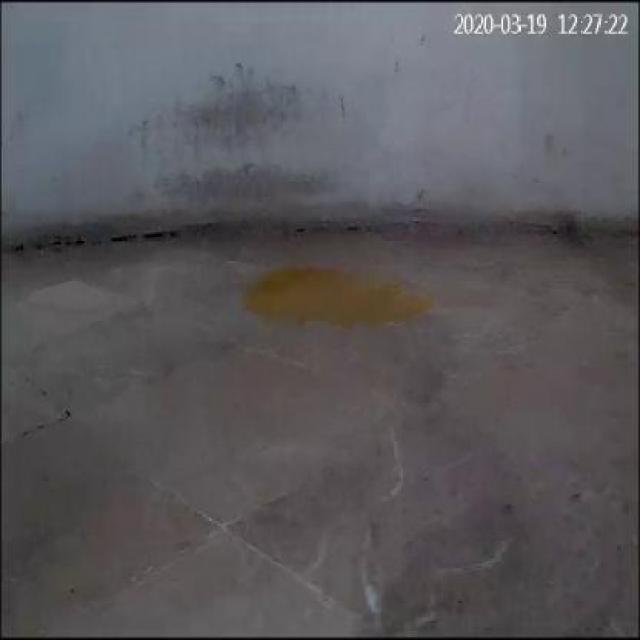spill: (250, 266, 430, 320)
